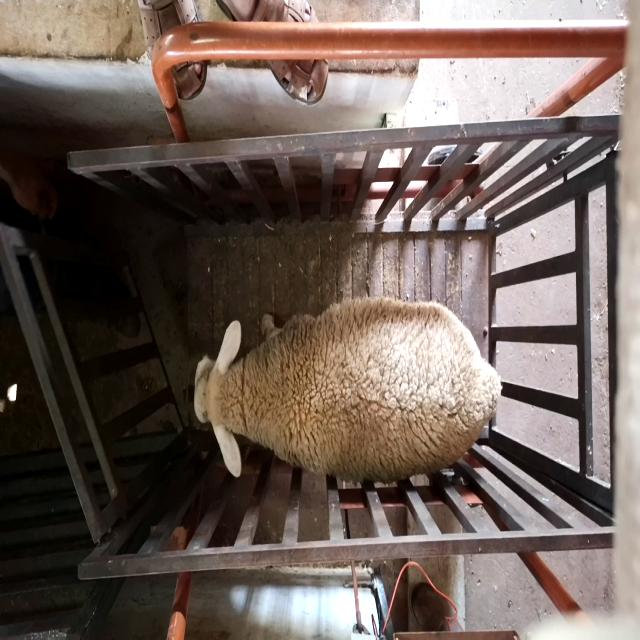sheep: (194, 294, 503, 483)
